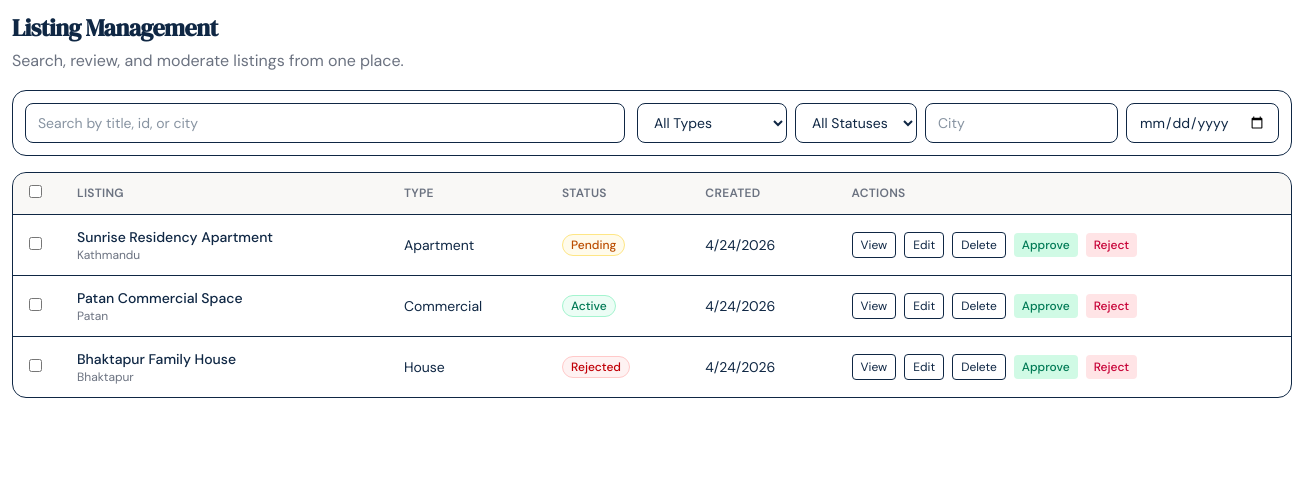
Scenario: admin listings bulk actions › selects a row and bulk approves with success feedback
This screenshot has width=1292, height=491.
What coordinates should you click on to do the following:
click the checkbox named "select listing l1"
I would click on:
 (36, 243)
Its box is [29, 237, 42, 250].
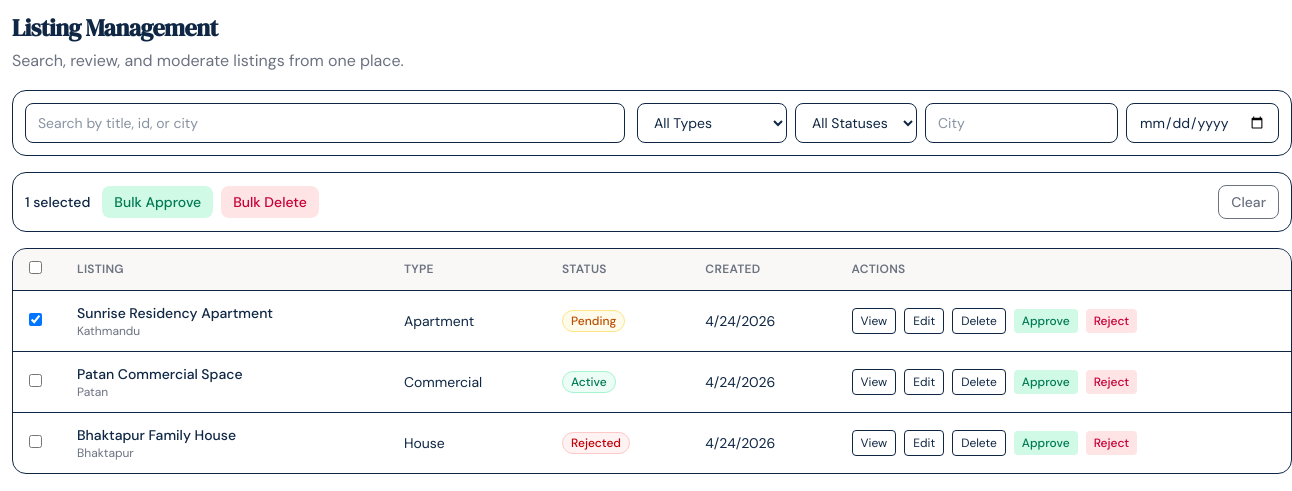
What coordinates should you click on to do the following:
click the button "Bulk Approve"
I would click on:
 (158, 202)
Its box is [102, 186, 213, 218].
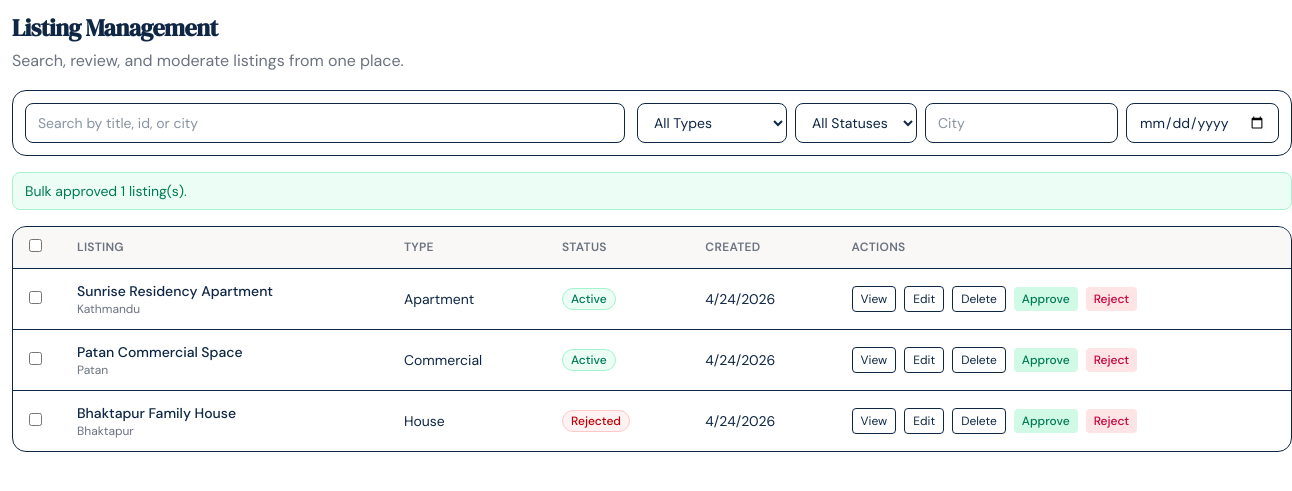
Now the text "Bulk approved 1 listing(s)." is shown, box [12, 172, 1291, 210]
